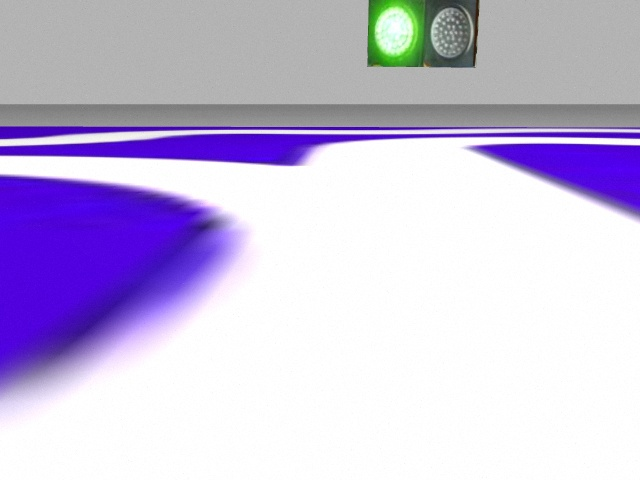green: (369, 2, 422, 69)
